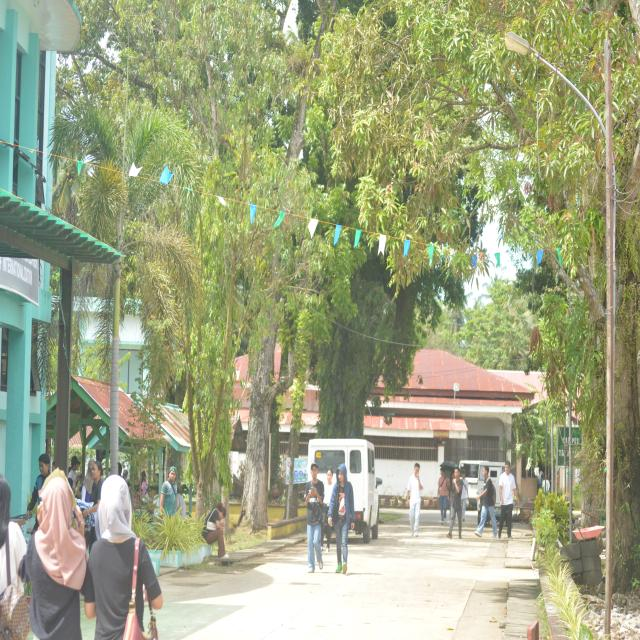person: (20, 470, 86, 639), (84, 475, 136, 639), (0, 476, 26, 593), (328, 464, 354, 573), (305, 463, 324, 572), (498, 461, 519, 539), (475, 466, 497, 538), (26, 454, 50, 518), (203, 503, 228, 558), (82, 460, 104, 517), (407, 463, 423, 536), (447, 467, 463, 538), (159, 467, 177, 515), (438, 468, 449, 523), (323, 501, 331, 553), (461, 468, 468, 521)
